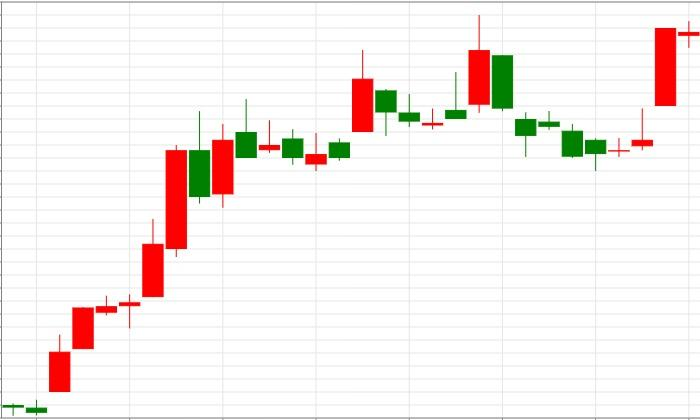shooting_star_fall: (48, 98, 257, 392)
